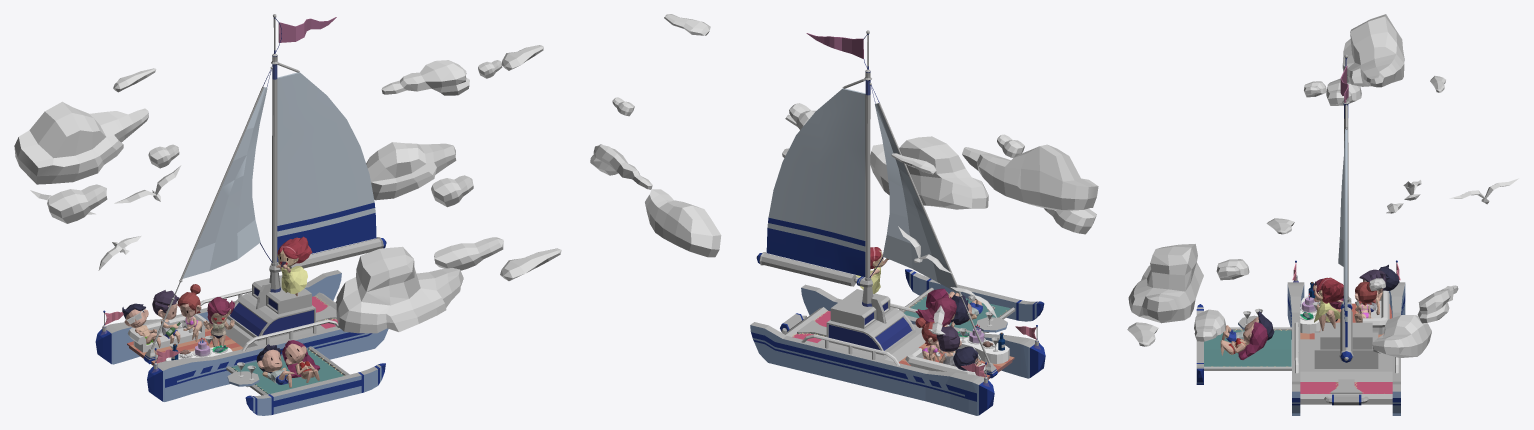
Rendered from 0047_yachtParty.fbx.
3 renders of one model, left to right at view 1: azimuth 30°, elevation 25°; view 2: azimuth 150°, elevation 25°; view 3: azimuth 270°, elevation 25°, orthographic.
Parts seen in each view (by area): view 1: Sail_02, Cloud_04, Hull_03, Cloud_03, Sail_01, Hull_01, Raft_01, Cloud_05, Head (×4), Cloud_06, Cloud_013, Cloud_014 (+11 smaller); view 2: Sail_02, Hull_03, Hull_01, Cloud_03, Sail_01, Cloud_04, Cloud_05, Raft_01, Sail_03, Cloud_06, Cloud_013, Table (+6 smaller); view 3: Hull_01, Cloud_04, Cloud_03, Raft_01, Hull_03, Cloud_05, Head (×3), Sail_02, Cloud_06, Cloud_014, Sail_03, Cloud_013 (+5 smaller).
Part boxes in pixels (x1,y1,x2,y2): Sail_02: (269, 14, 376, 292); Cloud_04: (336, 246, 463, 333); Hull_03: (95, 270, 388, 401); Cloud_03: (14, 101, 148, 184); Sail_01: (151, 66, 272, 349); Hull_01: (127, 275, 337, 365); Raft_01: (226, 346, 385, 415); Cloud_05: (366, 142, 456, 200); Head (×4): (177, 236, 319, 377); Cloud_06: (381, 60, 469, 95); Cloud_013: (47, 184, 107, 223); Cloud_014: (434, 237, 503, 270); Sail_02: (766, 30, 873, 306); Hull_03: (750, 284, 1045, 415); Hull_01: (784, 289, 1014, 379); Cloud_03: (962, 144, 1098, 210); Sail_01: (869, 82, 990, 363); Cloud_04: (870, 136, 988, 209); Cloud_05: (645, 189, 721, 257); Raft_01: (903, 269, 1044, 333); Sail_03: (756, 252, 872, 287); Cloud_06: (590, 144, 652, 189); Cloud_013: (1044, 208, 1096, 234); Table: (905, 347, 987, 375); Hull_01: (1300, 303, 1392, 404); Cloud_04: (1128, 244, 1203, 323); Cloud_03: (1342, 14, 1404, 87); Raft_01: (1196, 304, 1291, 384); Hull_03: (1287, 280, 1405, 415); Cloud_05: (1372, 315, 1431, 357); Head (×3): (1238, 277, 1378, 359); Sail_02: (1342, 54, 1349, 347); Cloud_06: (1417, 285, 1458, 323); Cloud_014: (1194, 309, 1225, 341); Sail_03: (1339, 300, 1353, 362); Cloud_013: (1326, 78, 1361, 105).
Size of the model in its own units: 25.46 by 16.82 by 18.32.
